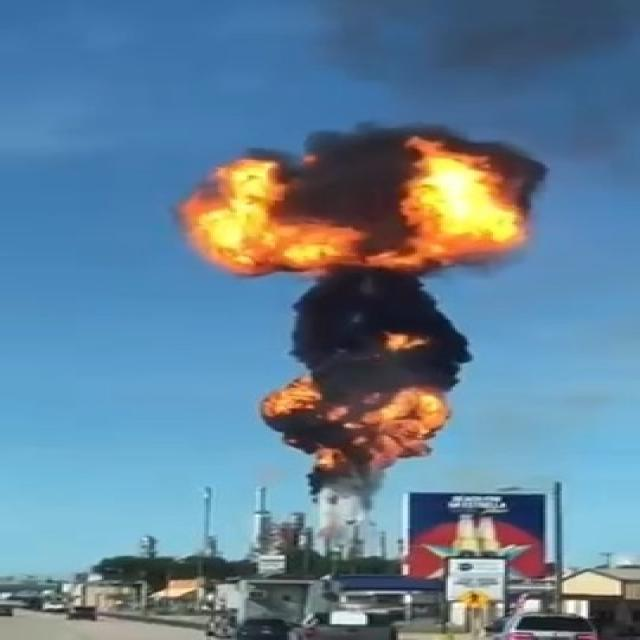Fire: (178, 136, 538, 275), (323, 383, 452, 466), (261, 377, 323, 421), (382, 334, 433, 354), (316, 446, 340, 467)
Smoke: (248, 125, 546, 259), (292, 265, 472, 418), (264, 413, 379, 506)
